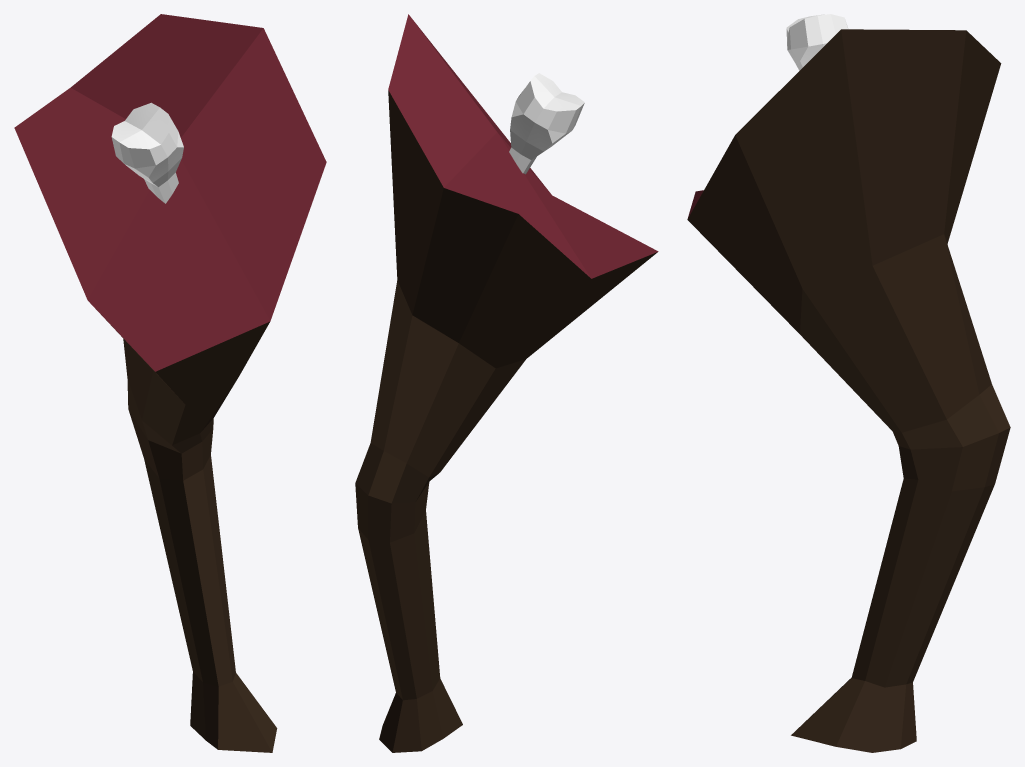
Rendered from FoodFrenzy_Assets_v1.fbx.
The picture shows the model from 3 angles, left to right: view 1: azimuth 30°, elevation 25°; view 2: azimuth 150°, elevation 25°; view 3: azimuth 270°, elevation 25°; orthographic projection. The views are drawn at different scales.
Parts seen in each view (by area): view 1: FoodFrenzy_Meat_1; view 2: FoodFrenzy_Meat_1; view 3: FoodFrenzy_Meat_1.
Part boxes in pixels (x1=…): FoodFrenzy_Meat_1: x1=14, y1=14, x2=326, y2=752; FoodFrenzy_Meat_1: x1=355, y1=14, x2=658, y2=752; FoodFrenzy_Meat_1: x1=687, y1=14, x2=1010, y2=752.
Bounding box in the file's own units: 63.58 × 226 × 91.71.
